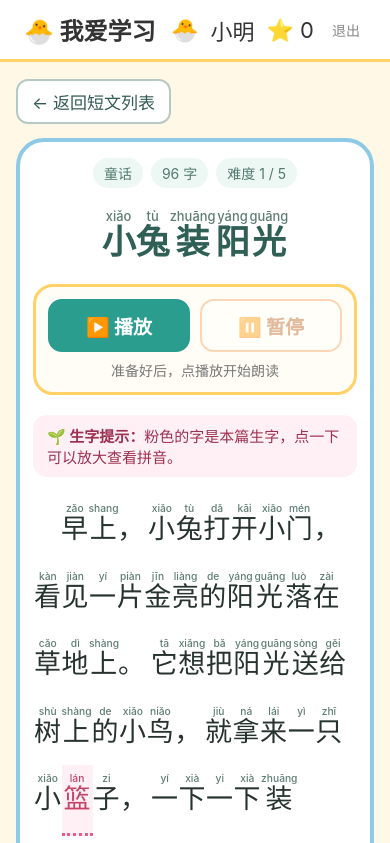
it: ReadingDetailPage › opens a pinyin card when a marked new character is selected
Step 1. Click the button "篮 lán" → [77, 800], box [62, 765, 92, 836]
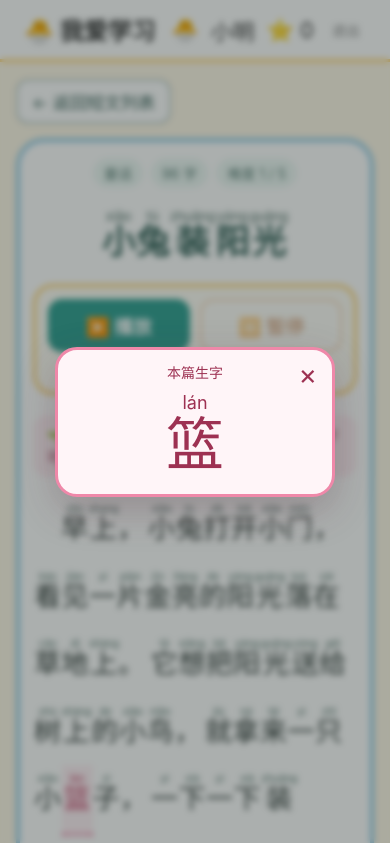
Result: the dialog named "生字卡" shows "lán" at [166, 392, 224, 413]
